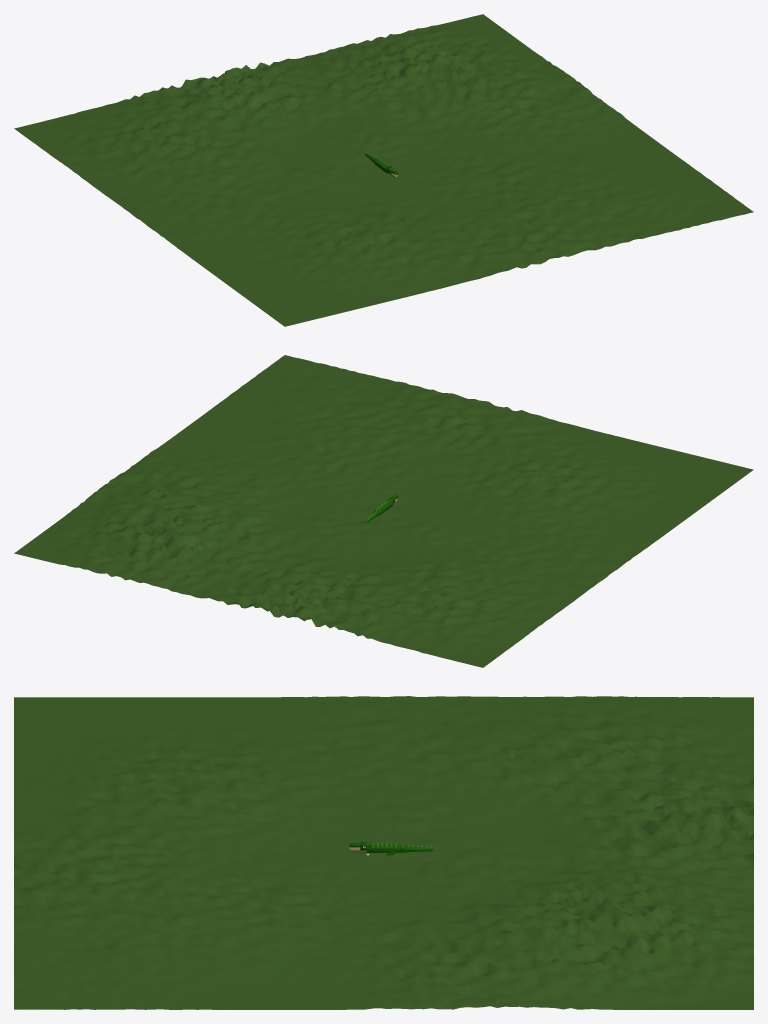
File: Crocodile.glb
The picture shows the model from 3 angles, top to bottom: view 1: azimuth 30°, elevation 25°; view 2: azimuth 150°, elevation 25°; view 3: azimuth 270°, elevation 25°; orthographic projection. The views are drawn at different scales.
Visible parts, largest first — view 1: Plane; view 2: Plane; view 3: Plane.
Part boxes in pixels (x1,y1,x2,y2): Plane: (14, 14, 753, 326); Plane: (14, 355, 753, 667); Plane: (14, 696, 753, 1009).
Size of the model in its own units: 164 by 5.35 by 164.
